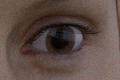eye: (47, 27, 75, 53)
